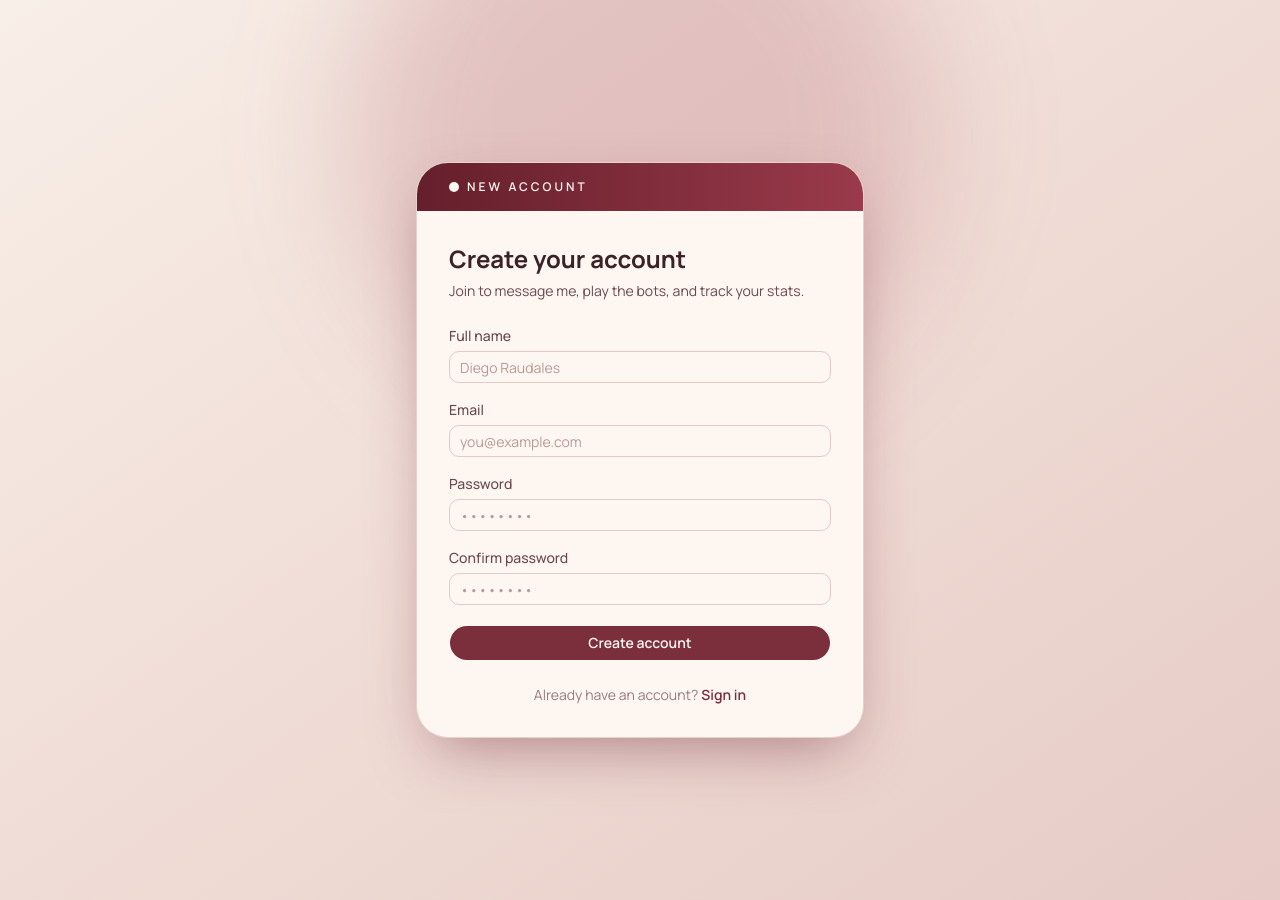
RegisterPage › submits the backend request and shows the verification state
This screenshot has width=1280, height=900.
Type "  Diego Raudales  " into the field labelled "Full name" at (640, 367), box [449,351,831,383]
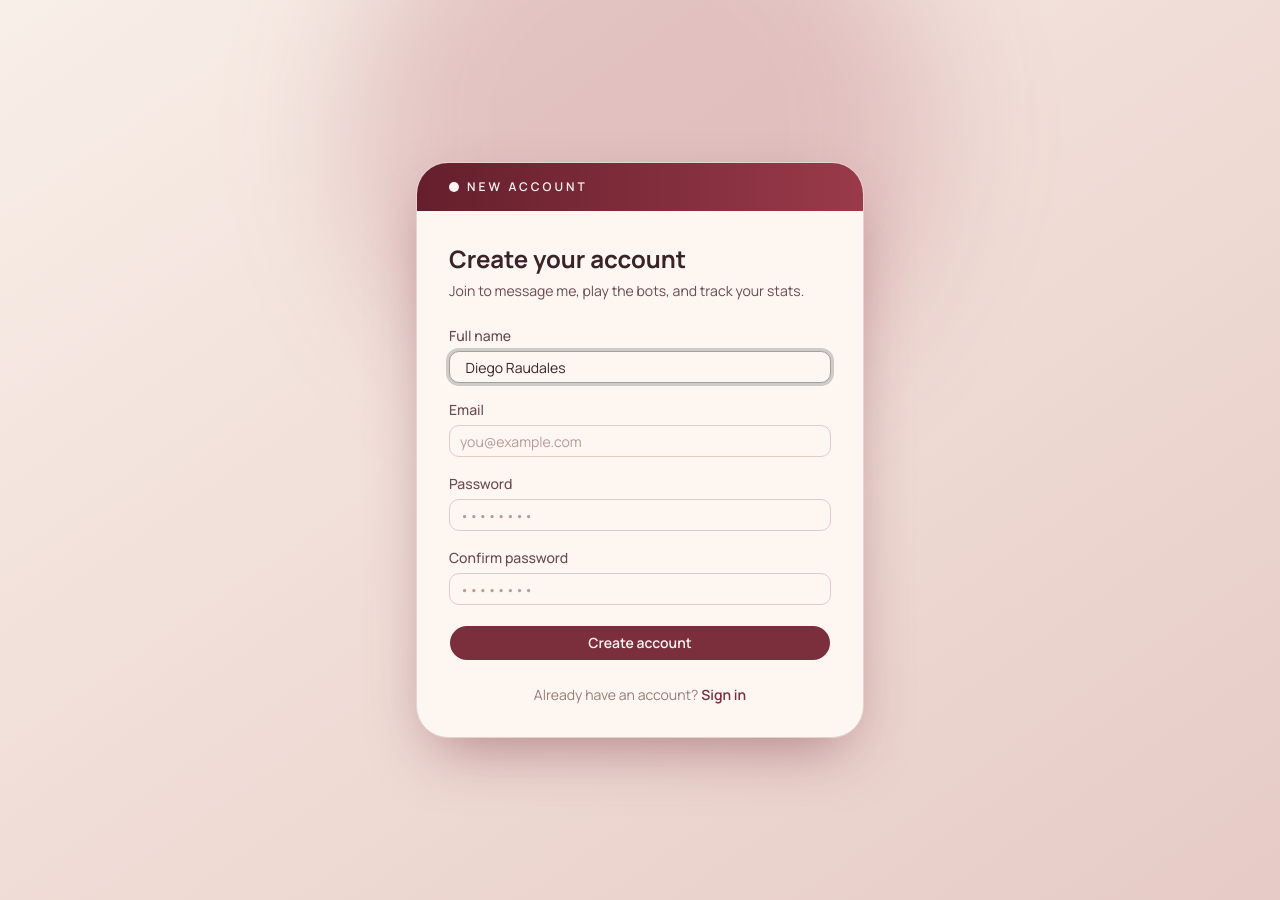
Type "  Diego@Example.com  " into the field labelled "Email" at (640, 441), box [449,425,831,457]
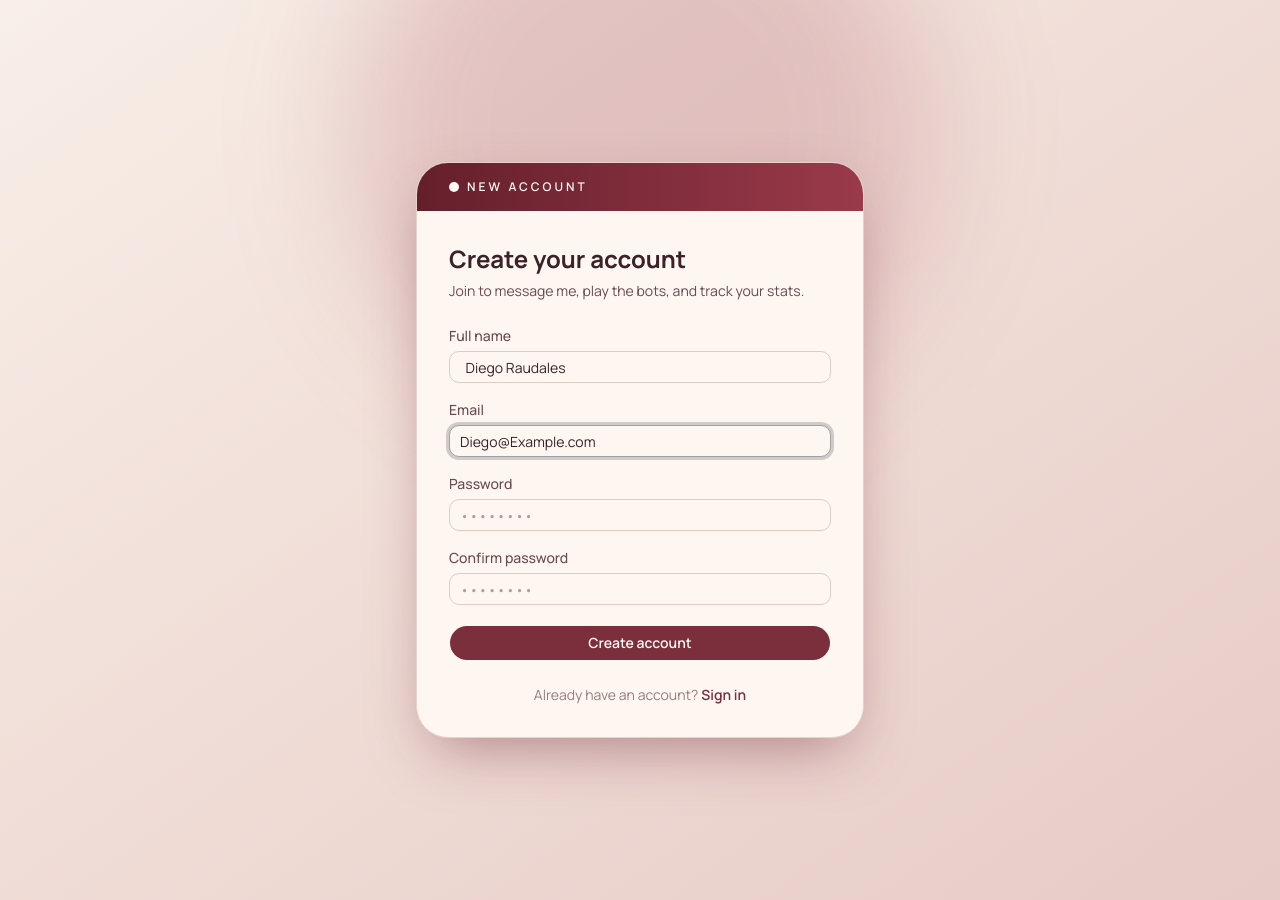
Type "password123" into the password field labelled "Password" at (640, 515), box [449,499,831,531]
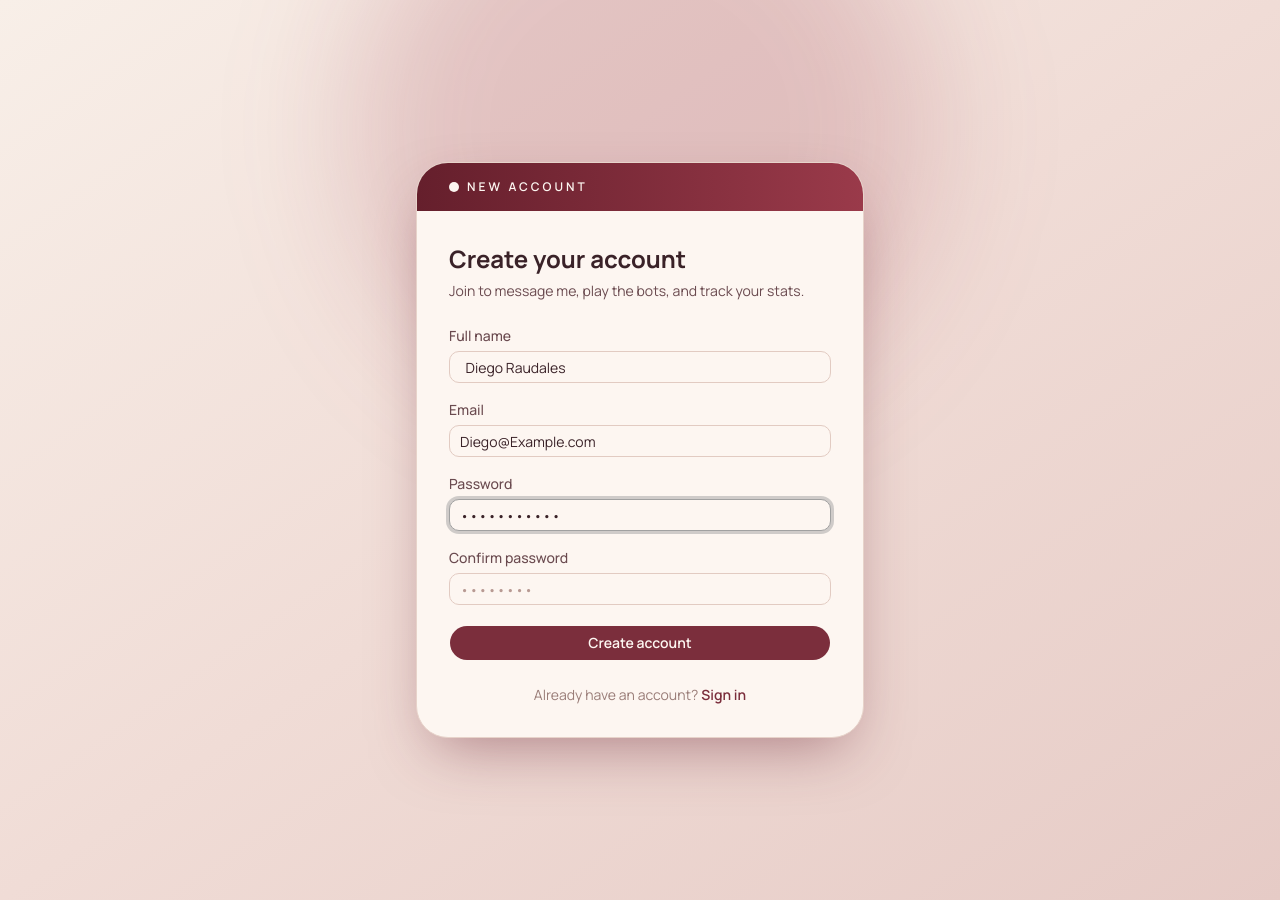
Type "password123" into the password field labelled "Confirm password" at (640, 589), box [449,573,831,605]
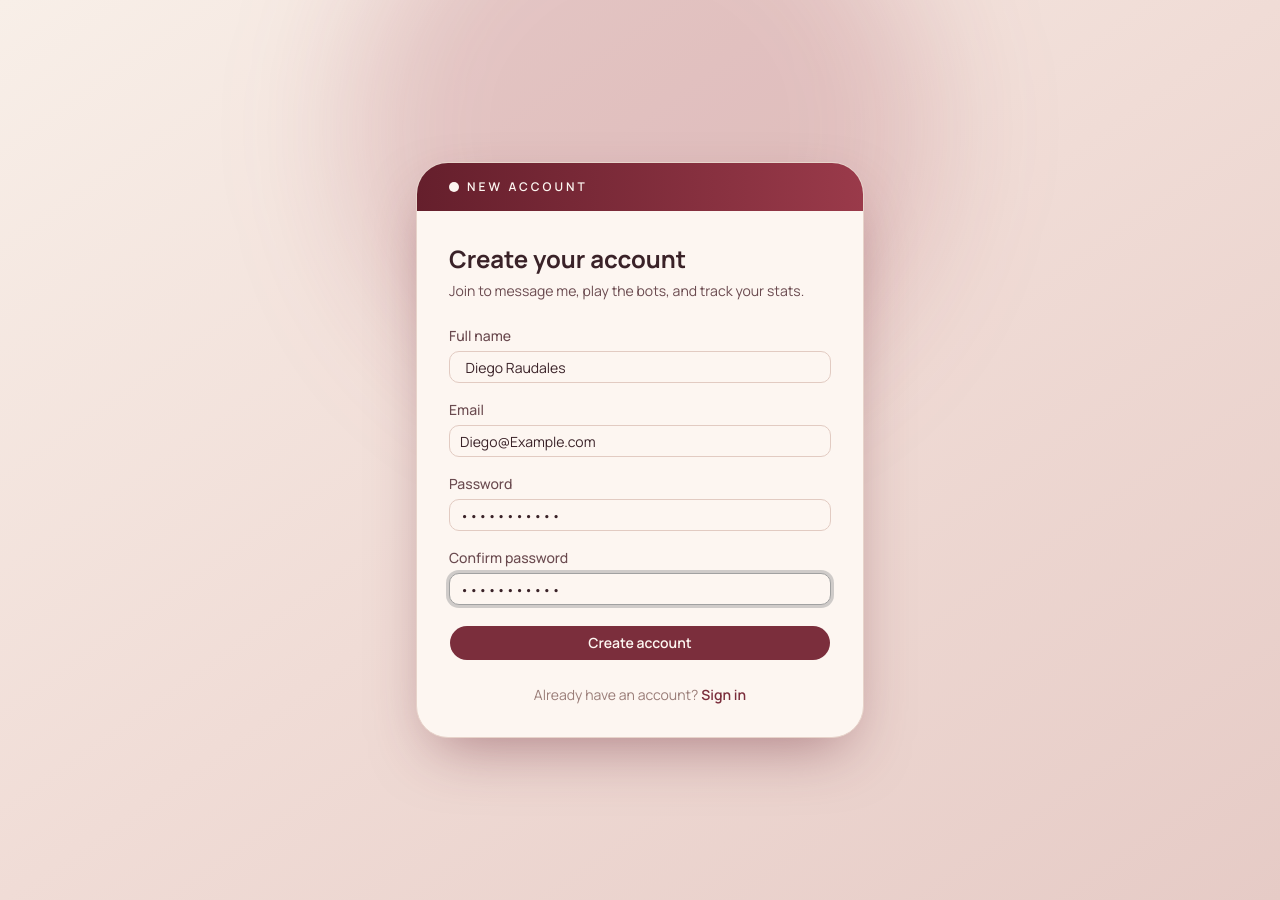
Click the button "Create account" at (640, 643), box [449,625,831,661]
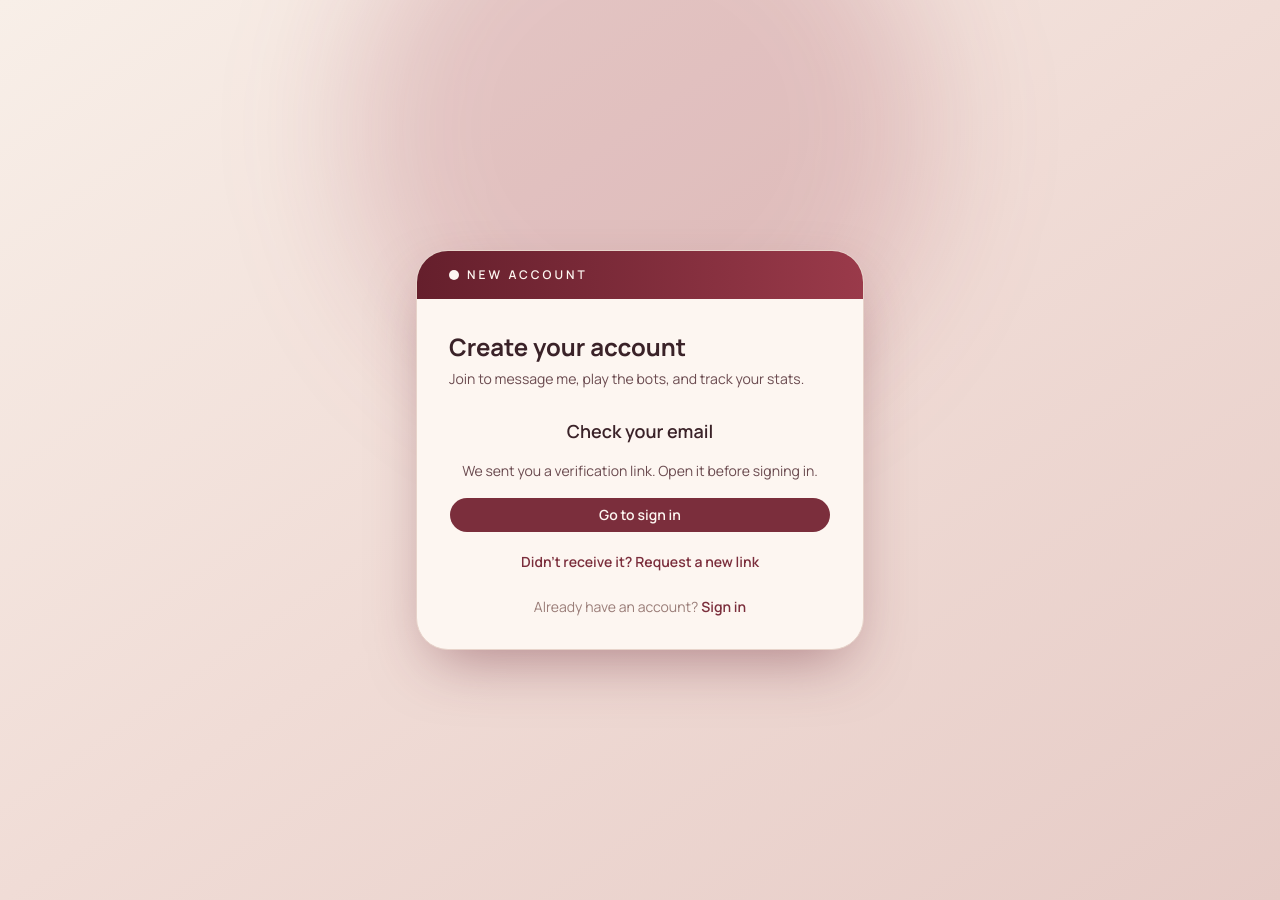
expect the text "Check your email" is shown: met, box [567,419,713,443]
expect the text "We sent you a verification link. Open it before signing in." is shown: met, box [449,461,831,481]
